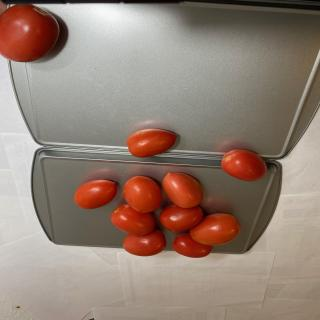Tomato: (0, 3, 60, 62), (190, 213, 242, 246), (126, 128, 177, 158), (162, 172, 203, 208), (221, 149, 267, 181), (124, 176, 162, 213), (110, 204, 155, 235), (74, 179, 117, 209), (159, 204, 203, 232), (122, 229, 167, 256), (172, 233, 213, 258)
